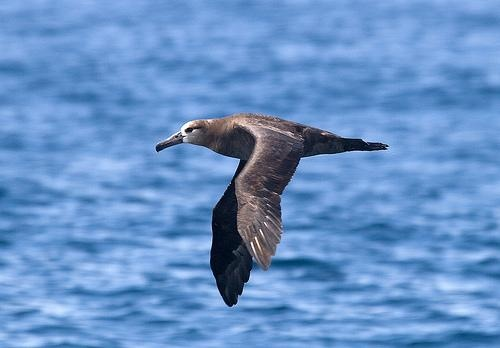bird: (150, 104, 391, 307)
